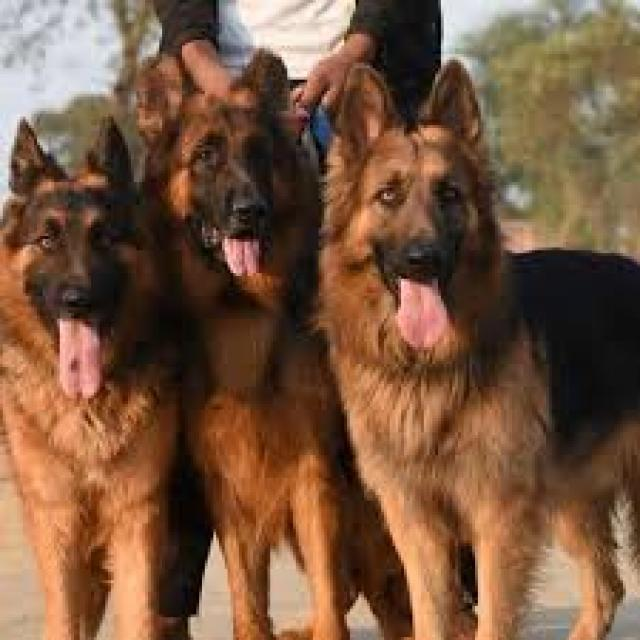Dog: (322, 59, 640, 640), (0, 115, 165, 640), (142, 48, 318, 412)
